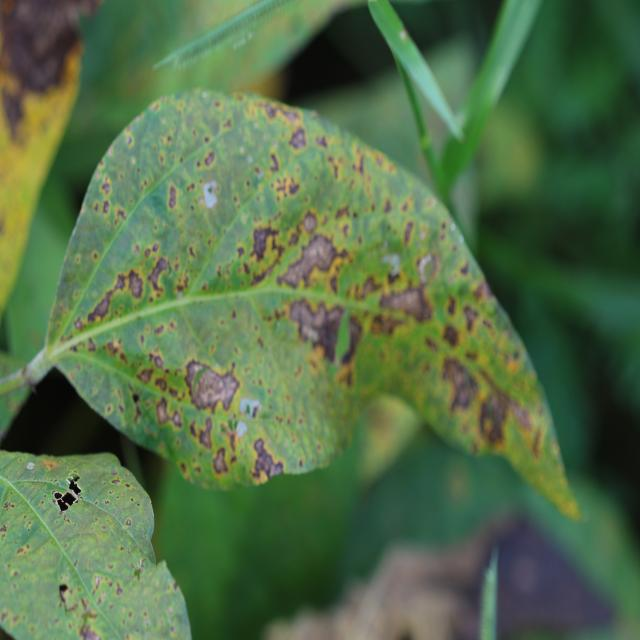Bacterial_Blight: (169, 353, 252, 418), (378, 252, 442, 325), (288, 296, 356, 363), (474, 364, 529, 444), (279, 229, 343, 289), (442, 357, 480, 415), (251, 437, 285, 483), (1, 85, 26, 139), (52, 474, 83, 513), (249, 224, 280, 262), (88, 286, 119, 323), (147, 256, 172, 293), (272, 173, 301, 202), (200, 179, 219, 209), (212, 446, 229, 475), (78, 617, 100, 639), (127, 271, 144, 299), (288, 126, 307, 151), (155, 398, 170, 424), (136, 366, 154, 384), (303, 212, 318, 232), (269, 152, 280, 173), (111, 478, 120, 485)
Soybean: (37, 90, 585, 524)
